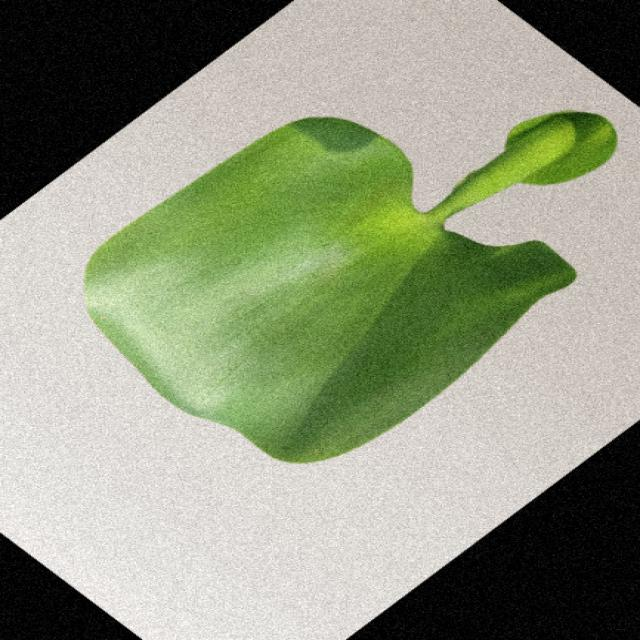daun sehat: (85, 112, 618, 462)
